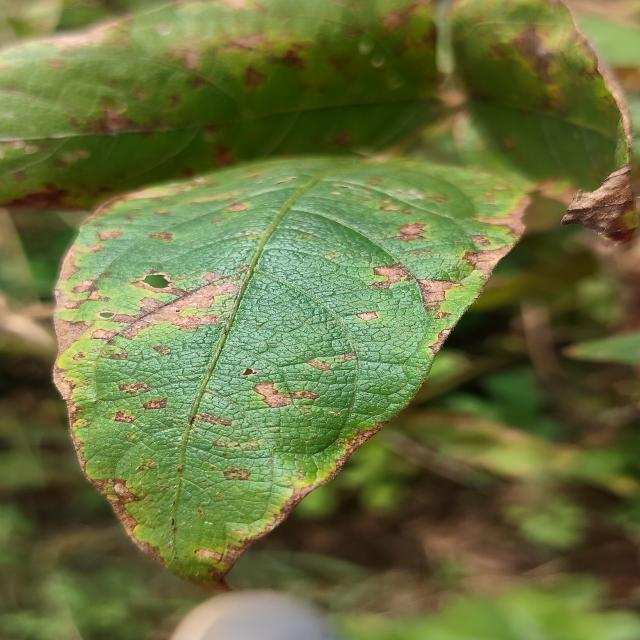Black gram_leaf spot: (53, 157, 528, 590), (0, 0, 449, 215), (440, 0, 639, 241)
